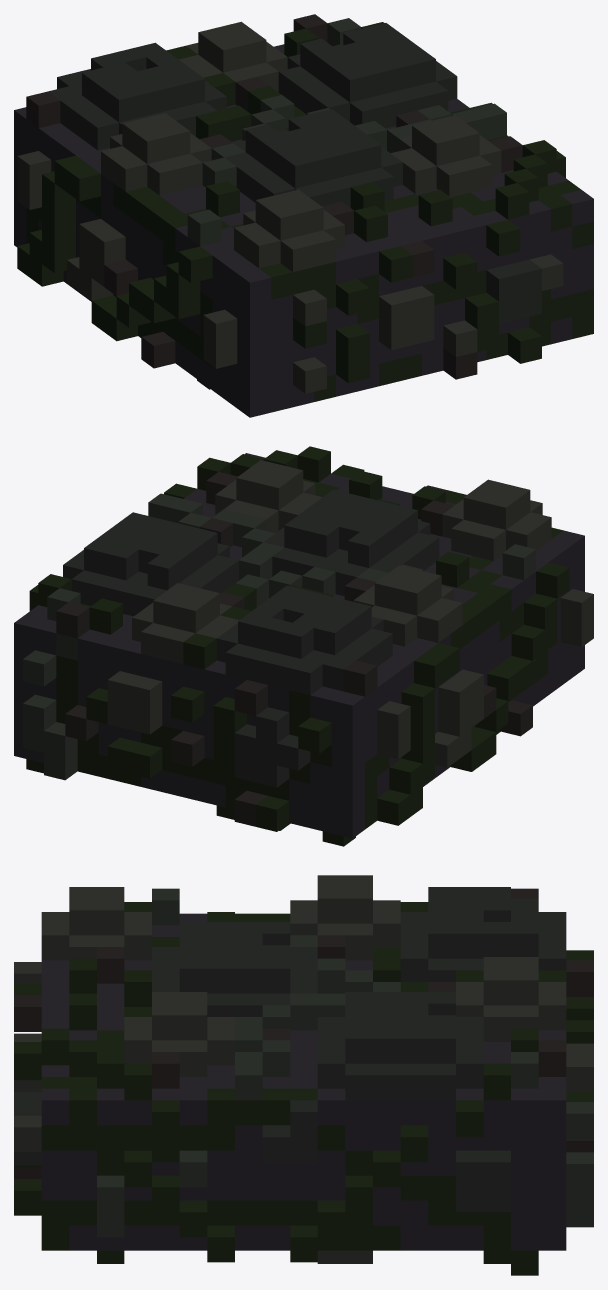
The model's file is Small_Platform.glb.
The picture shows the model from 3 angles, top to bottom: view 1: azimuth 30°, elevation 25°; view 2: azimuth 150°, elevation 25°; view 3: azimuth 270°, elevation 25°; orthographic projection. The views are drawn at different scales.
Parts seen in each view (by area): view 1: Untitled.004; view 2: Untitled.004; view 3: Untitled.004.
Boxes of the visible parts, x1,y1,x2,y2 form: Untitled.004: (14, 14, 593, 417); Untitled.004: (14, 446, 593, 846); Untitled.004: (14, 875, 593, 1275).
Bounding box in the file's own units: 1.8 × 0.9 × 2.1.
Materials: 1 (1 with a texture image).
